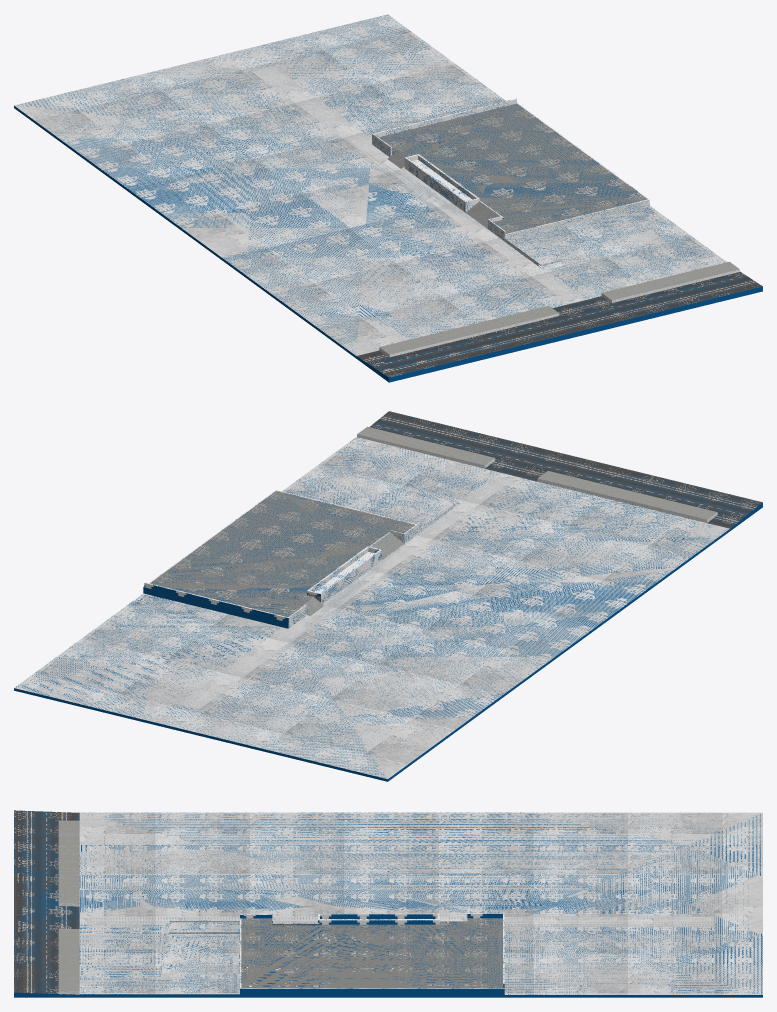
The model's file is Sân trường.dae.
The picture shows the model from 3 angles, top to bottom: view 1: azimuth 30°, elevation 25°; view 2: azimuth 150°, elevation 25°; view 3: azimuth 270°, elevation 25°; orthographic projection.
Parts seen in each view (by area): view 1: group_6 (×7), group_3, group_5, group_4; view 2: group_6 (×7), group_3, group_5 (×2), group_4; view 3: group_6 (×8), group_3, group_5, group_4.
Part boxes in pixels (box(x1,y1,x2,y2)): group_6 (×7): box(14, 14, 762, 382); group_3: box(246, 66, 586, 305); group_5: box(379, 306, 558, 354); group_4: box(602, 261, 739, 300); group_6 (×7): box(14, 411, 762, 781); group_3: box(177, 472, 522, 710); group_5 (×2): box(537, 471, 717, 522); group_4: box(357, 426, 494, 465); group_6 (×8): box(14, 810, 762, 997); group_3: box(79, 914, 714, 927); group_5: box(58, 820, 79, 903); group_4: box(58, 929, 79, 991).
Bounding box in the file's own units: 2969 × 5158 × 101.
Materials: 9 (5 with a texture image).
